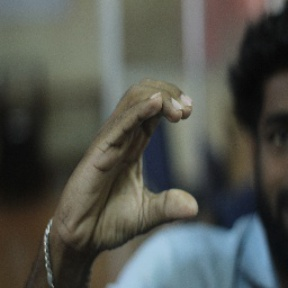C: (84, 74, 206, 233)
